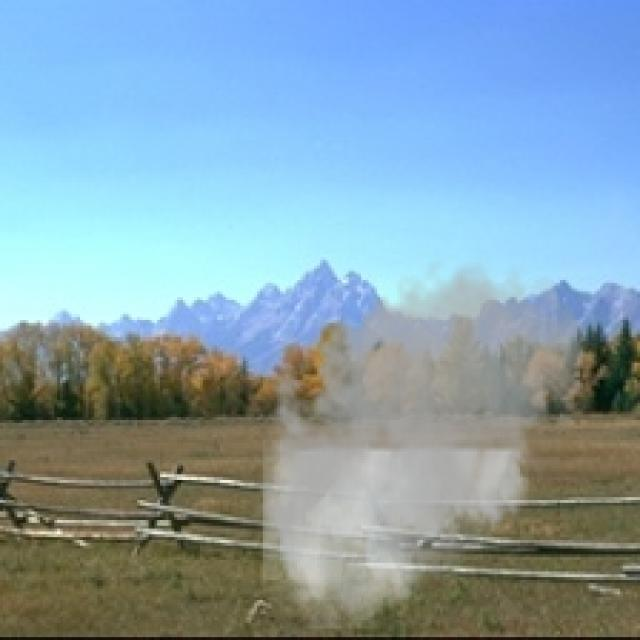Smoke: (248, 248, 594, 628)
